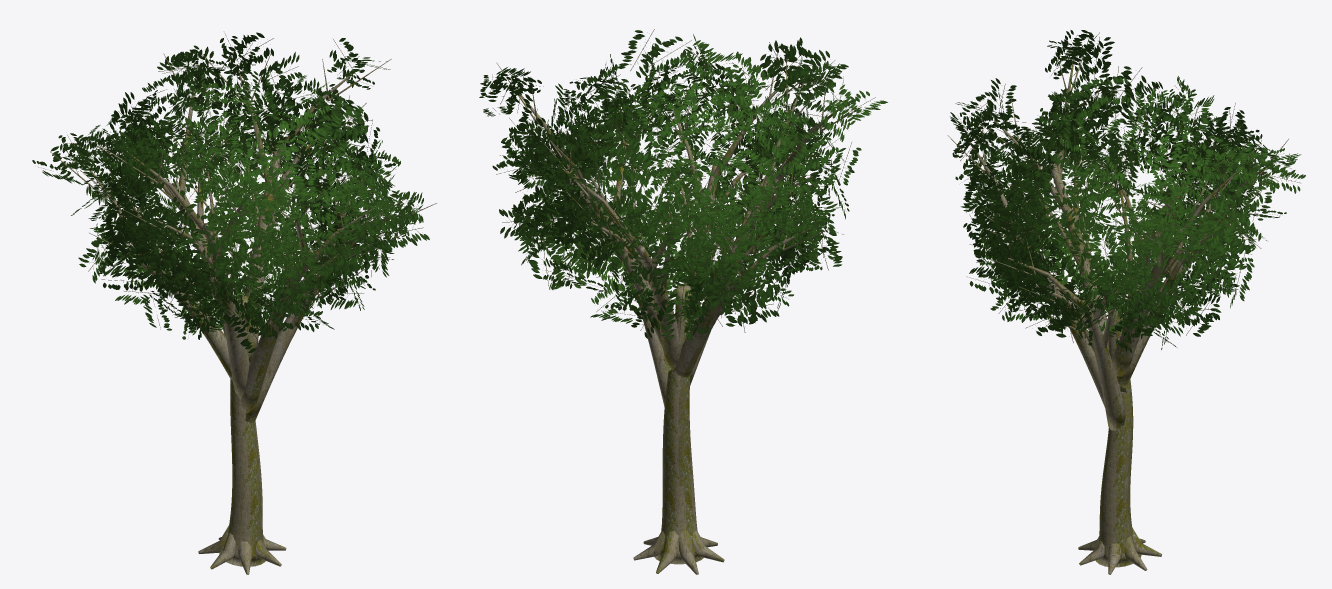
3 renders of one model, left to right at view 1: azimuth 30°, elevation 25°; view 2: azimuth 150°, elevation 25°; view 3: azimuth 270°, elevation 25°, orthographic. The views are drawn at different scales.
Visible parts, largest first — view 1: xa_cu; view 2: xa_cu; view 3: xa_cu.
Part boxes in pixels (bbox=[...]): xa_cu: bbox=[32, 32, 436, 574]; xa_cu: bbox=[479, 29, 887, 574]; xa_cu: bbox=[947, 30, 1305, 574].
Size of the model in its own units: 16.62 by 22.58 by 15.97.
Materials: 2 (2 with a texture image).
